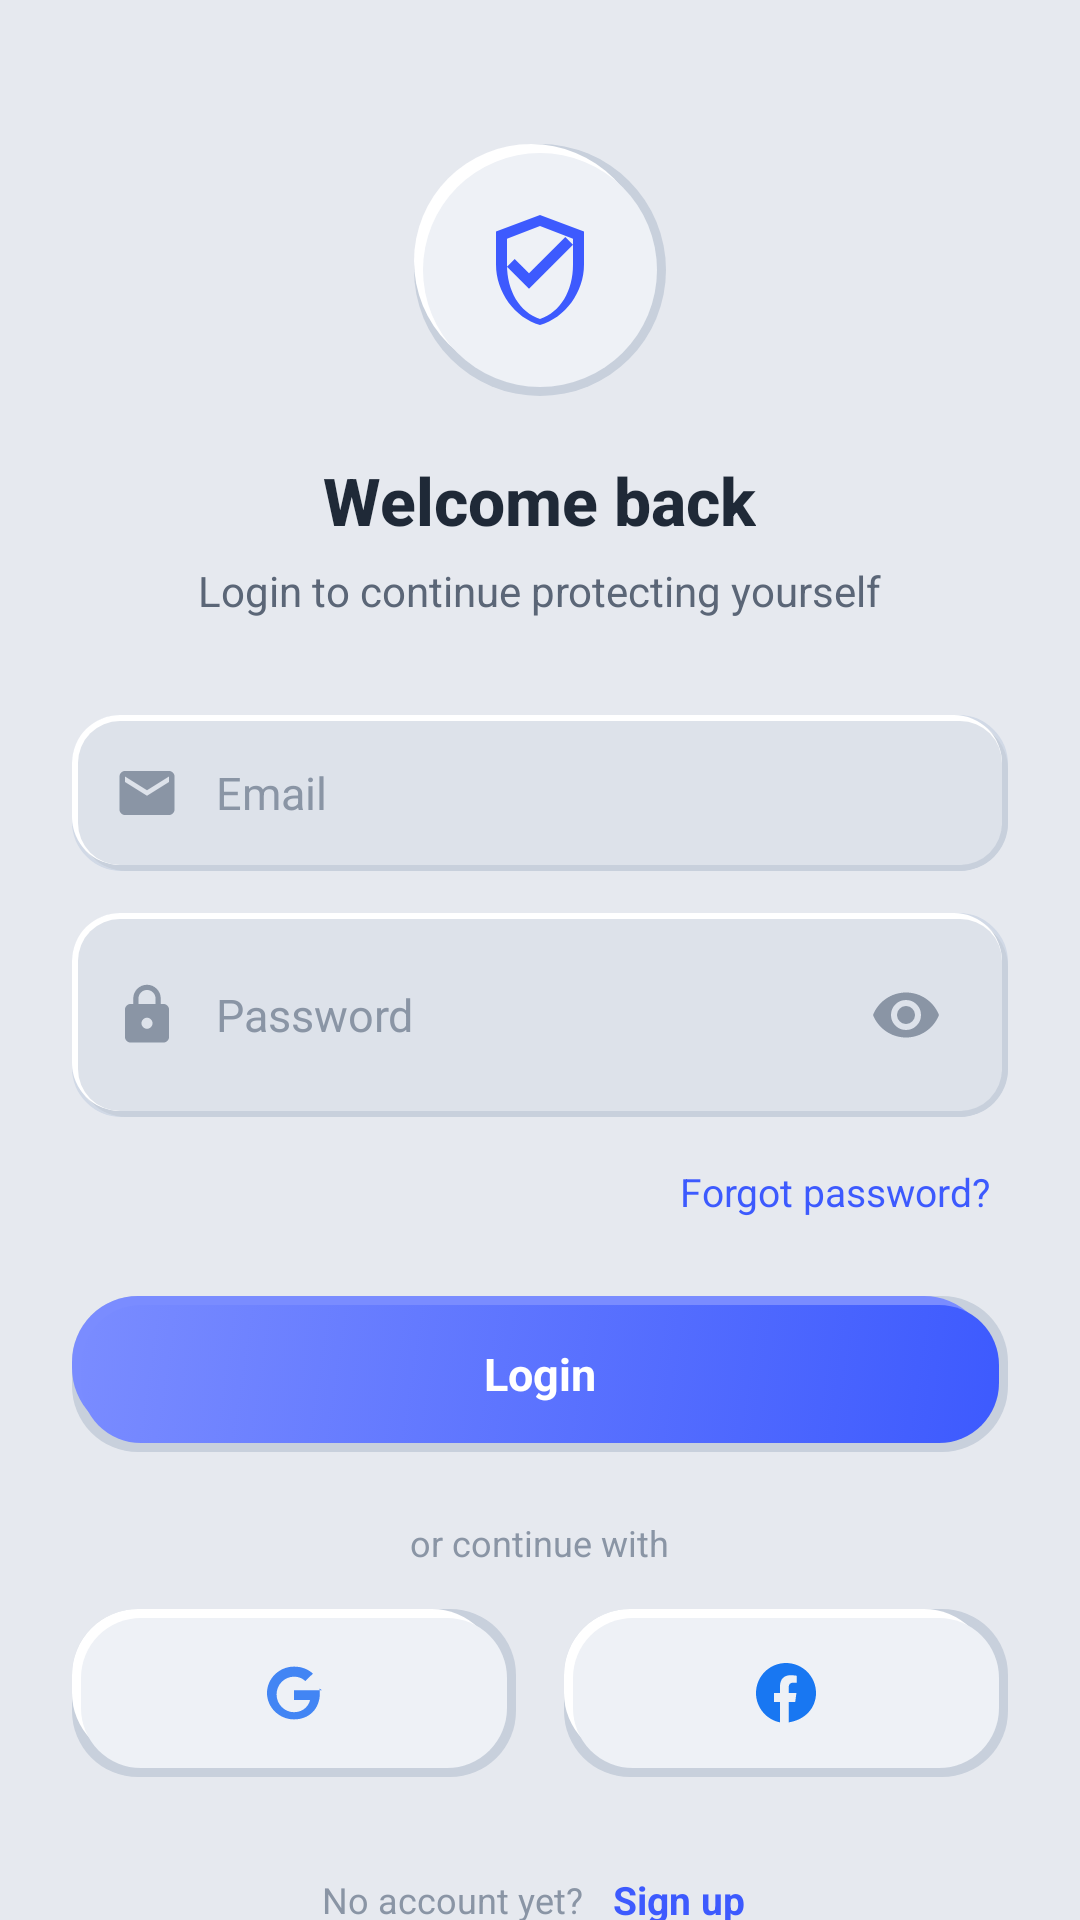

Icons on this 1080x1920 Android screen, each with the point to tap as (x=x, y=y):
eye: (x=906, y=1015)
lock: (x=147, y=1014)
shield: (x=540, y=270)
